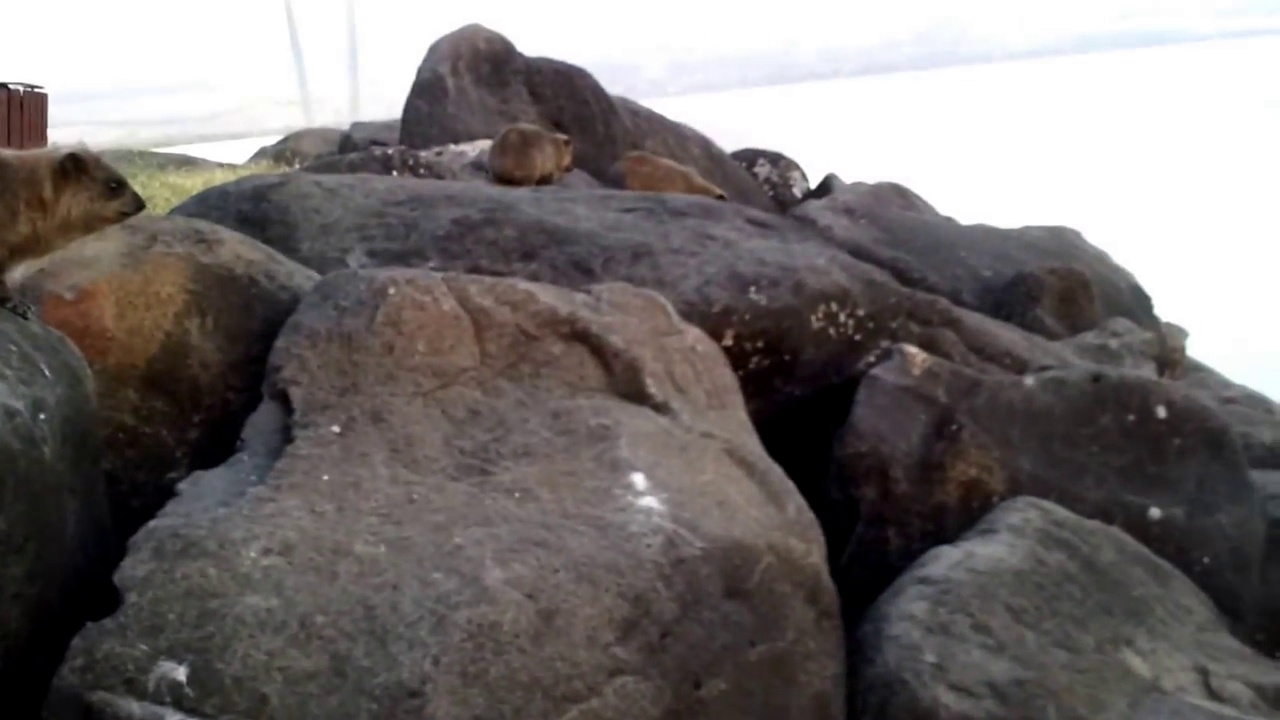Rock Hyrex: (617, 151, 732, 210), (482, 120, 577, 191)
